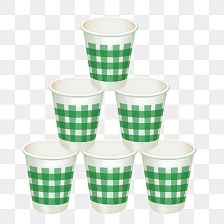paper_cup: (45, 72, 108, 155), (78, 12, 141, 94), (20, 133, 81, 217), (77, 136, 139, 217), (110, 74, 171, 154), (138, 135, 198, 216)
